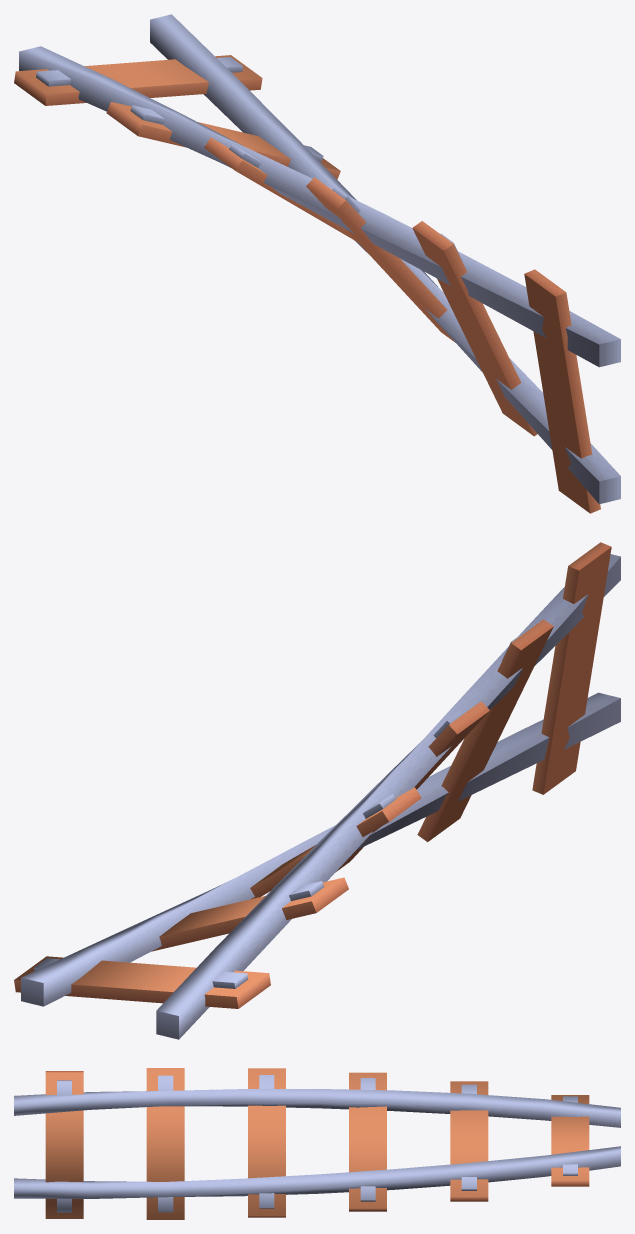
Rendered from railroad-straight-skew-left-side.glb.
The picture shows the model from 3 angles, top to bottom: view 1: azimuth 30°, elevation 25°; view 2: azimuth 150°, elevation 25°; view 3: azimuth 270°, elevation 25°; orthographic projection. The views are drawn at different scales.
Visible parts, largest first — view 1: railroad-straight-skew-left-side; view 2: railroad-straight-skew-left-side; view 3: railroad-straight-skew-left-side.
Part boxes in pixels (bbox=[...]): railroad-straight-skew-left-side: bbox=[14, 14, 620, 513]; railroad-straight-skew-left-side: bbox=[14, 542, 620, 1039]; railroad-straight-skew-left-side: bbox=[14, 1068, 620, 1219].
Size of the model in its own units: 0.9951 by 0.9951 by 4.
1 material, 1 textured.
